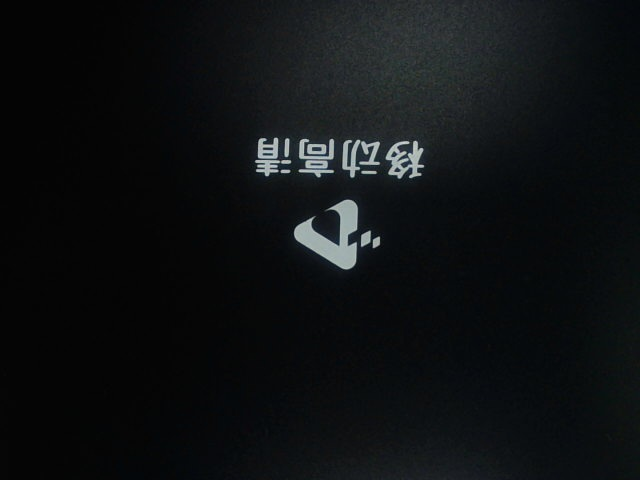AO_MobileHD: (240, 121, 457, 289)
